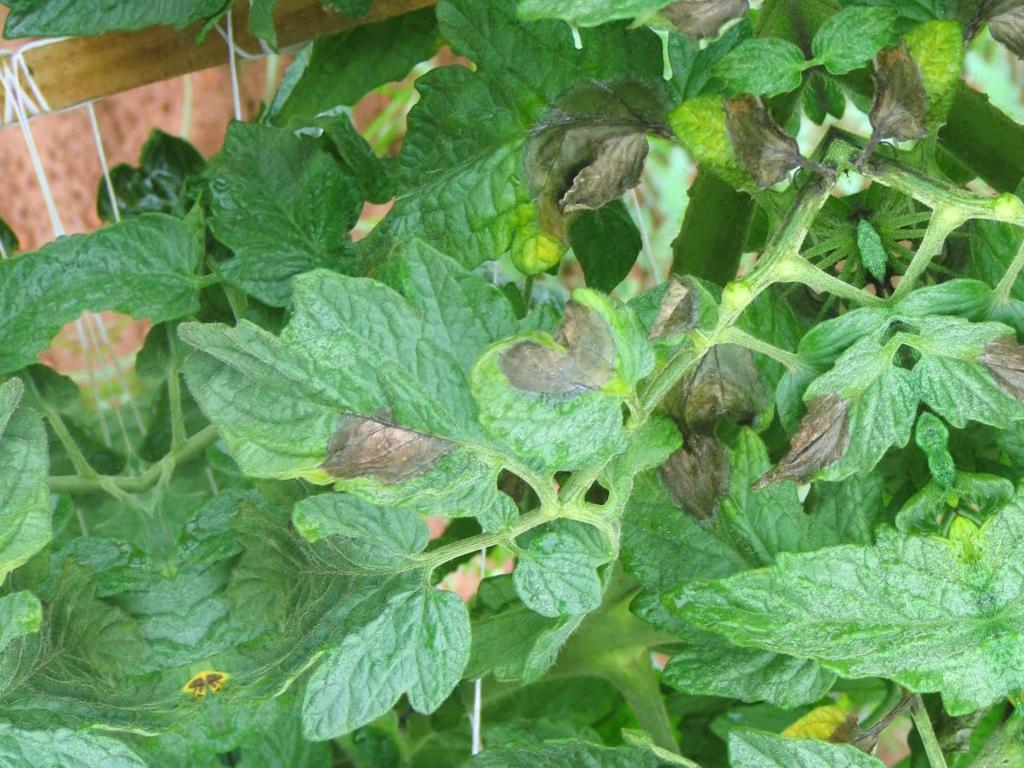Tomato leaf late blight: (155, 208, 577, 596), (302, 0, 737, 305), (450, 276, 669, 498), (733, 330, 931, 497), (646, 56, 831, 223)
